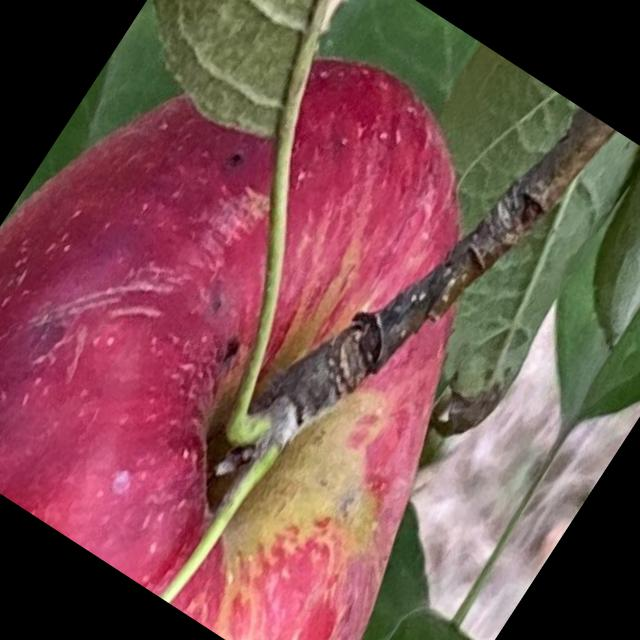Apples: (0, 0, 638, 639)
